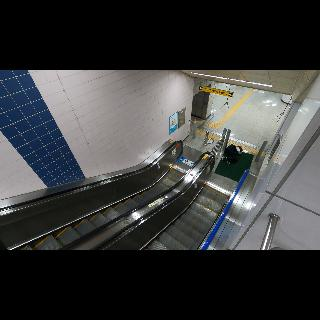anomaly: (222, 144, 244, 166)
